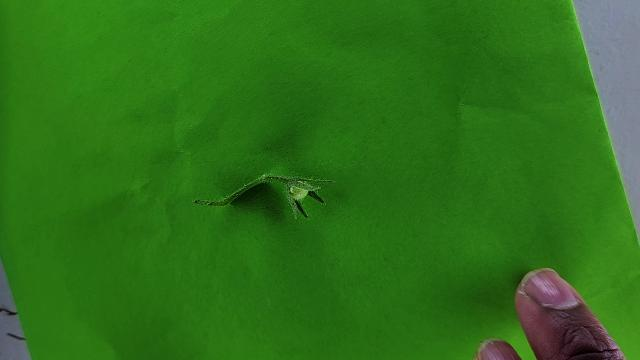Fruit Bud: (282, 177, 330, 220)
